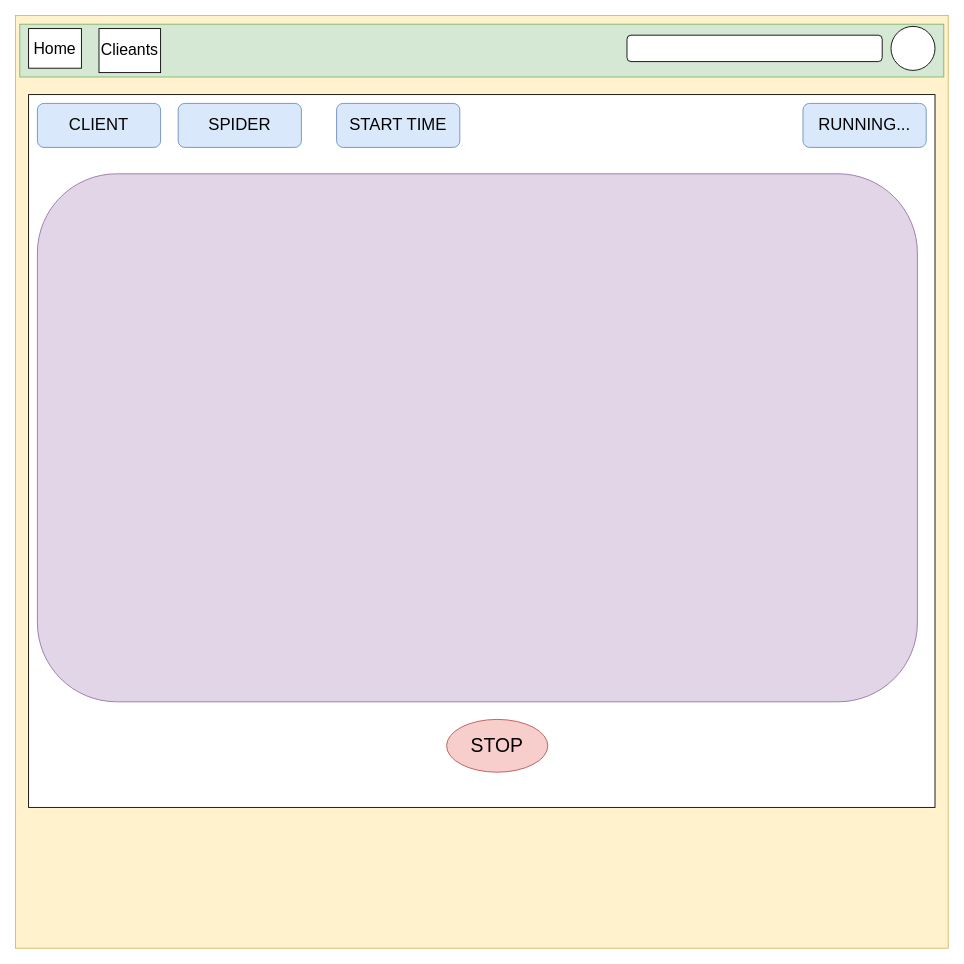
The diagram is 964 pixels wide and 964 high, and some of its shapes have lost their labels. Here are the shapes that lost their labels. From the top down, the centre of each, then its label:
At point 754,48: "SEARCH SPIDER".
At point 912,48: "Profile".
At point 477,437: "FORMATTED LOGS".
